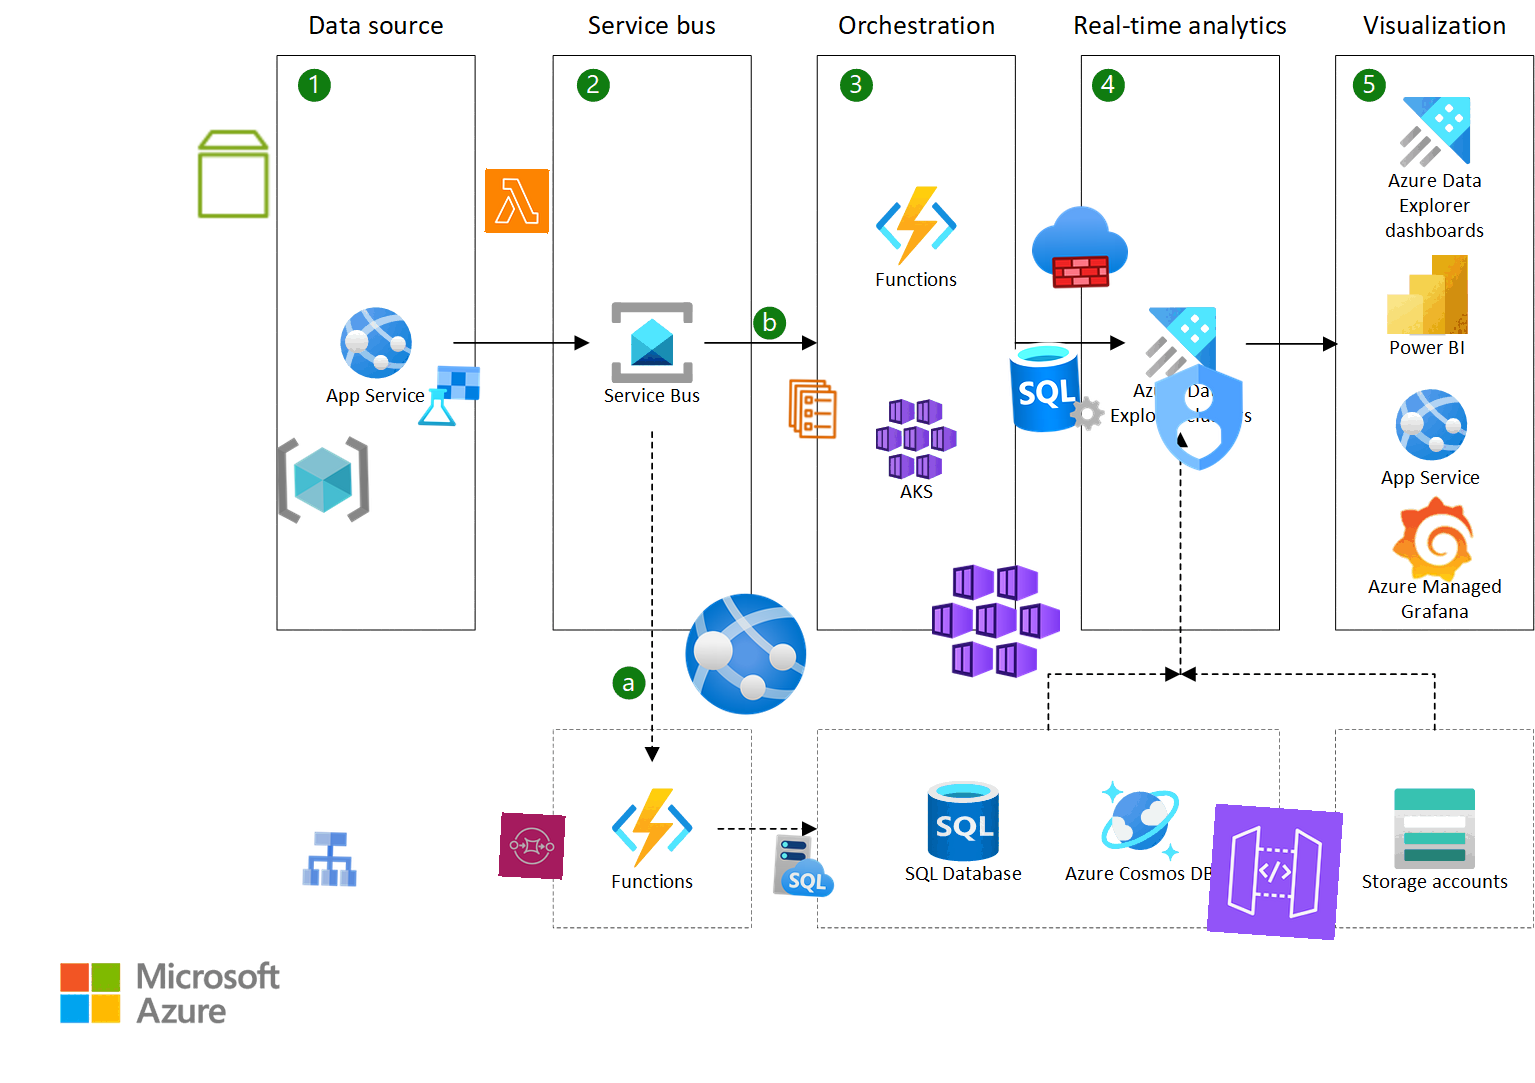aws_amazon_api_gateway: (1206, 803, 1344, 941)
aws_amazon_simple_queue_service: (498, 812, 566, 880)
aws_elastic_block_store_volume: (185, 125, 284, 223)
aws_elastic_container_service_service: (780, 376, 846, 442)
aws_lambda: (484, 168, 550, 234)
azure_app_services: (678, 587, 813, 721)
azure_firewalls: (1030, 197, 1130, 297)
azure_kubernetes_services: (932, 556, 1060, 684)
azure_machine_learning_studio_workspaces: (416, 363, 482, 429)
azure_resource_groups: (273, 430, 373, 530)
azure_sql_managed_instance: (771, 832, 839, 900)
azure_sql_server: (1007, 336, 1108, 438)
gcp_cloud_load_balancing: (296, 826, 363, 892)
gcp_identity_and_access_management: (1134, 352, 1264, 482)
